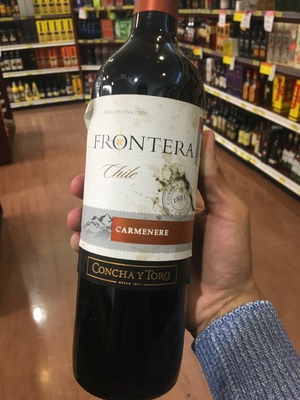frontera carmenere: (78, 9, 208, 397)
